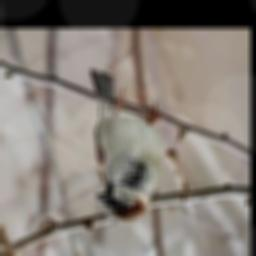Sparrow: (90, 69, 161, 223)
